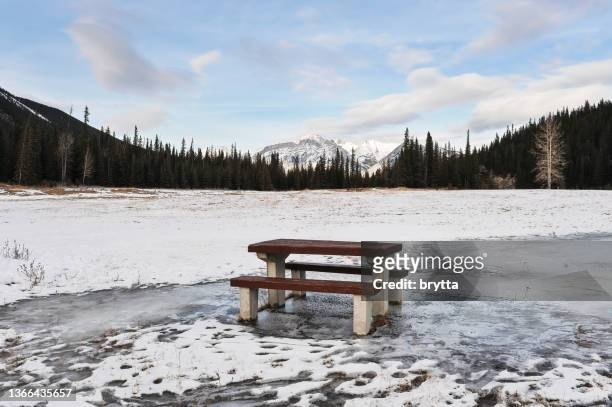obstacle: (230, 239, 402, 335)
